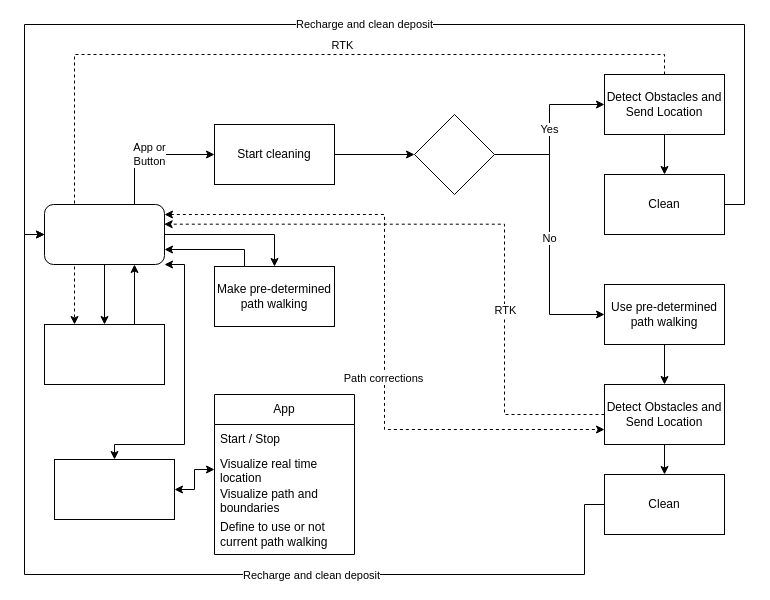
Image size: 770x600. Some labels were removed from this diagram. Here are the shapes that lost their labels. From the top down, the centre of each, then its label:
(x=454, y=154): First Time?
(x=104, y=234): Base
(x=104, y=354): Make location boundaries
(x=114, y=489): Cloud Services
